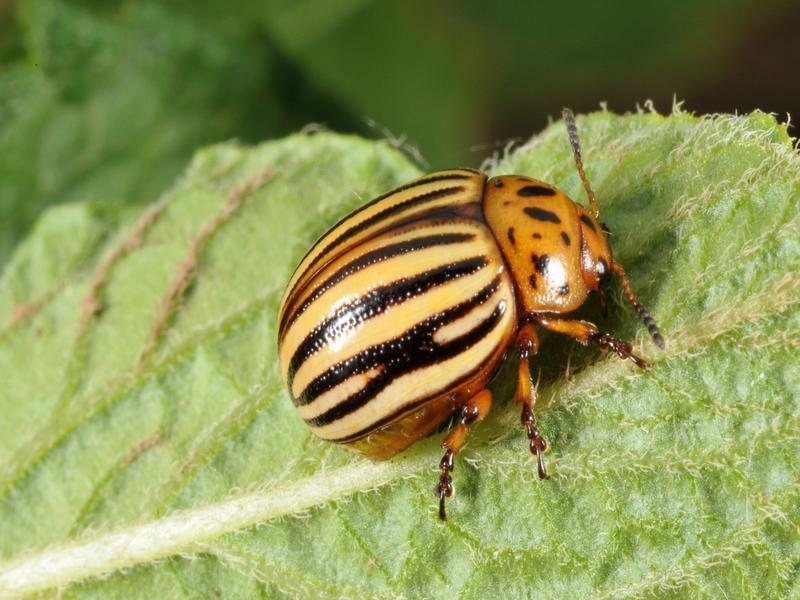hrosc: (266, 164, 658, 463)
